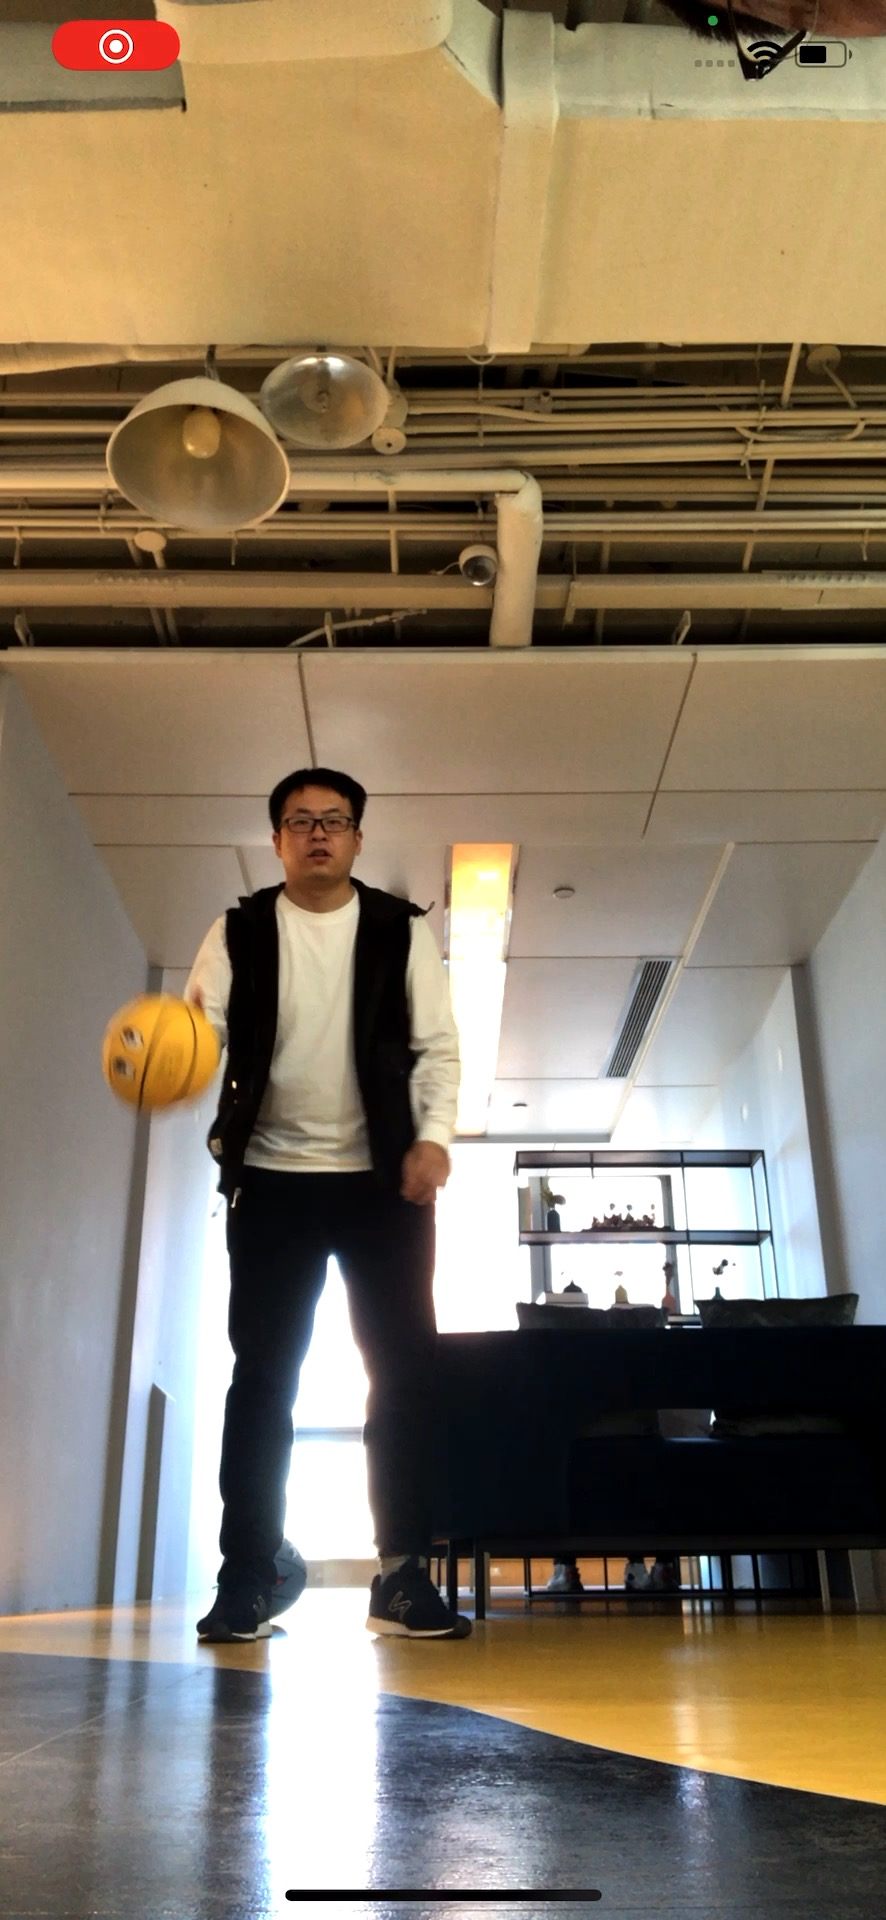ball: (102, 994, 217, 1119)
